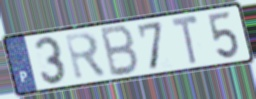3: (33, 35, 69, 86)
5: (205, 10, 241, 60)
7: (136, 19, 167, 72)
B: (99, 23, 141, 79)
R: (62, 30, 109, 83)
T: (170, 13, 201, 68)
